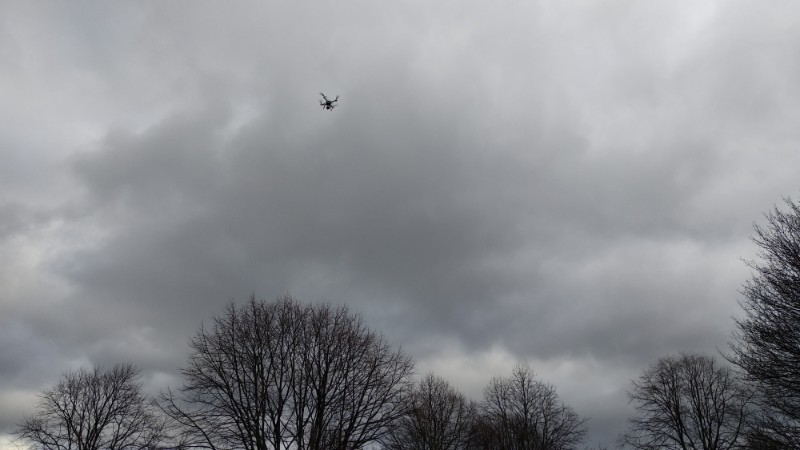drone: (318, 94, 340, 111)
